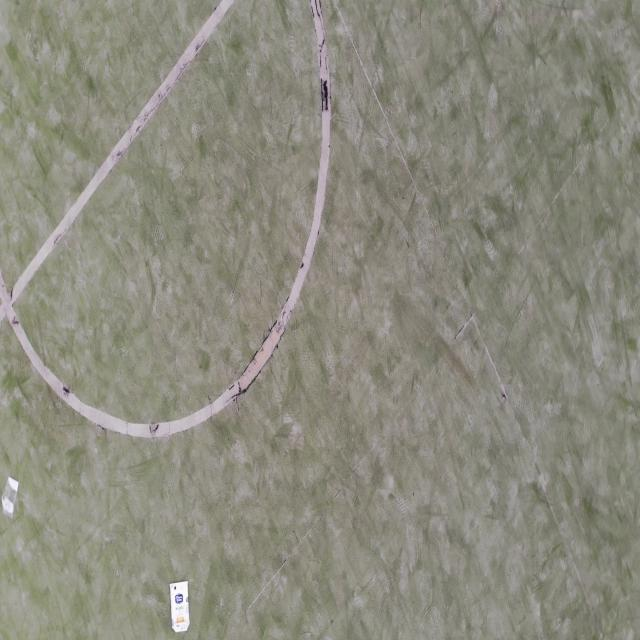rubbish: (169, 579, 190, 632), (1, 476, 19, 519)
